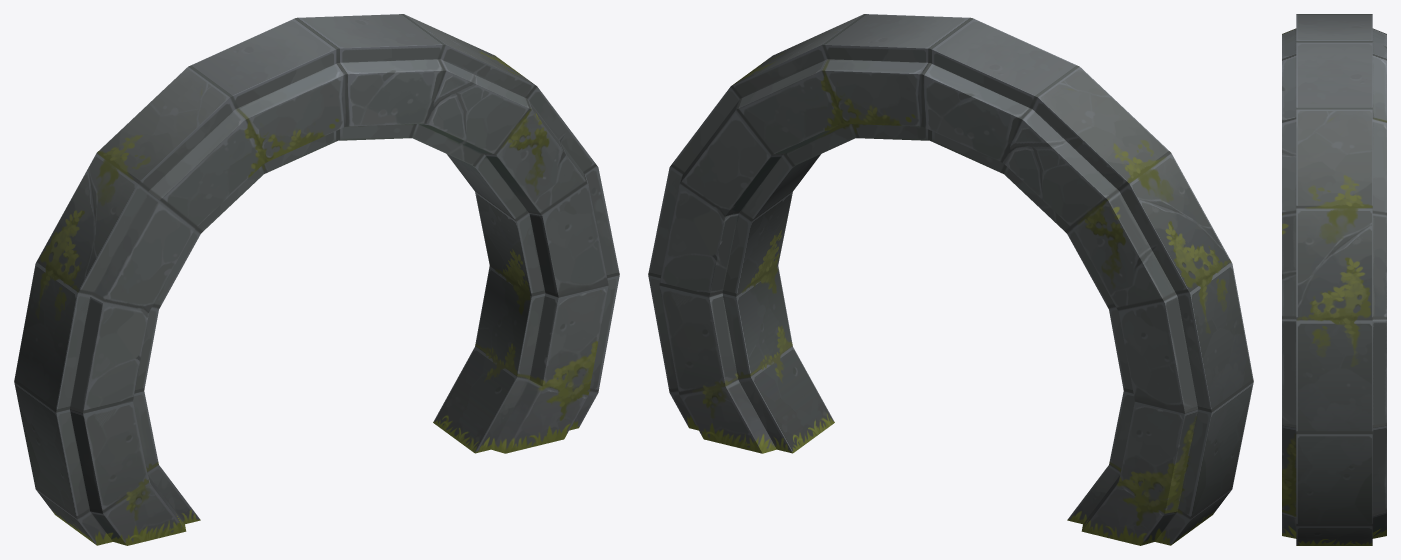
Rendered from Pr_RoundGate_01.FBX.
3 renders of one model, left to right at view 1: azimuth 30°, elevation 25°; view 2: azimuth 150°, elevation 25°; view 3: azimuth 270°, elevation 25°, orthographic. The views are drawn at different scales.
Visible parts, largest first — view 1: Pr_RoundGate_01; view 2: Pr_RoundGate_01; view 3: Pr_RoundGate_01.
Part boxes in pixels (x1,y1,x2,y2): Pr_RoundGate_01: (14, 14, 619, 545); Pr_RoundGate_01: (648, 14, 1253, 545); Pr_RoundGate_01: (1282, 14, 1386, 545).
Bounding box in the file's own units: 4.22 × 3.14 × 0.7486.
1 material, 1 textured.
